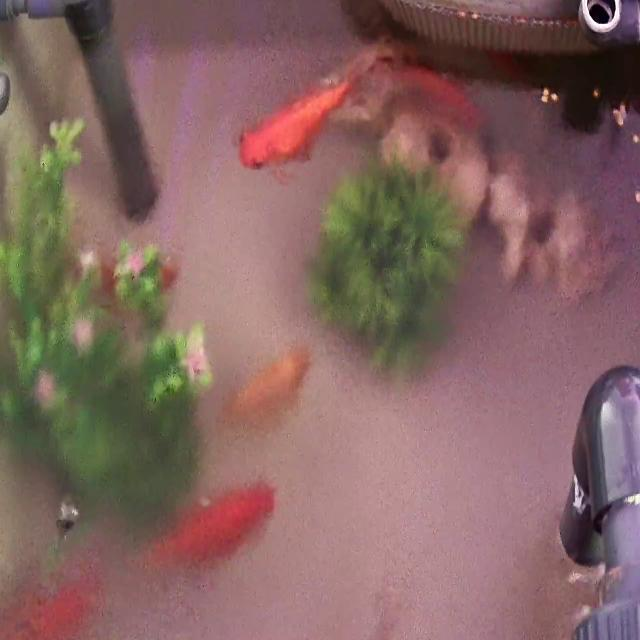fish: (140, 481, 278, 572), (238, 73, 344, 171), (0, 556, 107, 640), (371, 60, 481, 132), (224, 346, 310, 432), (313, 594, 396, 640)
